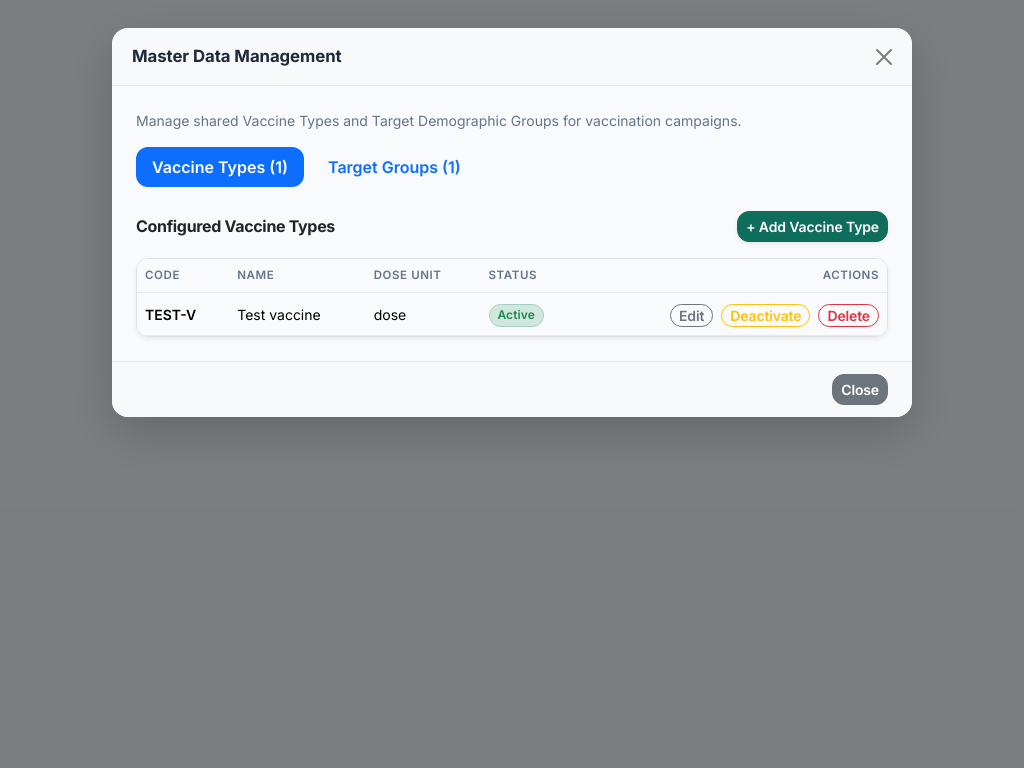
vaccine deletion › retains the row and shows a 409 error
Check: the text "TEST-V" is shown, box [137,293,229,335]
Check: the button "Target Groups (1)" is shown, box [312,147,477,187]
What coordinates should you click on to do the following:
click the button "Delete"
I would click on:
 (849, 315)
Its box is [818,304,879,327].
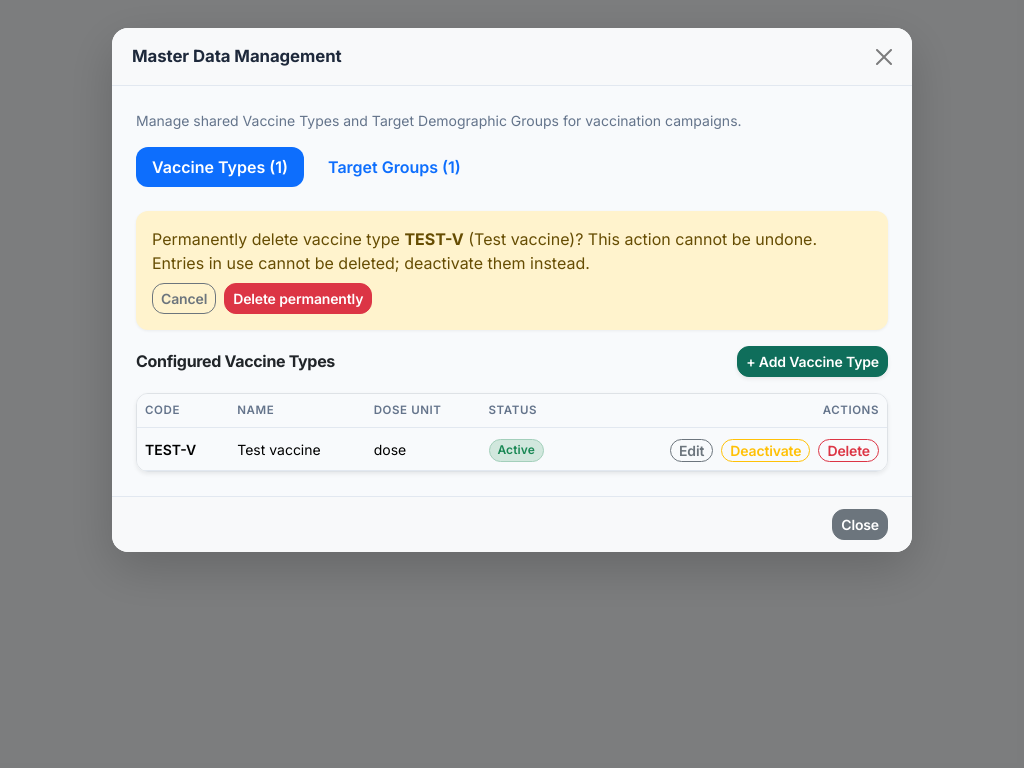
What coordinates should you click on to do the following:
click the button "Delete permanently"
I would click on:
 (298, 299)
Its box is [224,283,372,314].
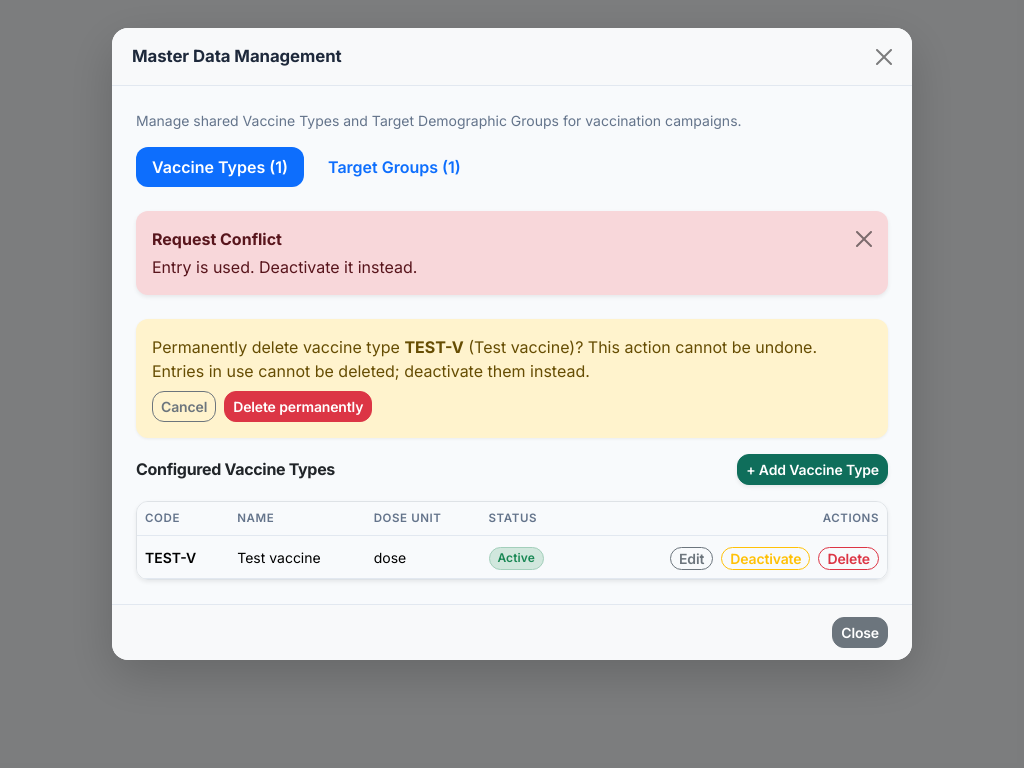
Check: the text "Entry is used. Deactivate it instead." is shown, box [152,255,417,279]
